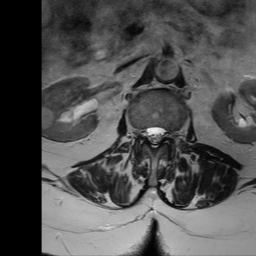CCS_normal: (150, 116, 158, 154)
LFS_normal: (166, 121, 173, 147)
LLS_normal: (158, 118, 166, 147)
RFS_normal: (135, 118, 143, 143)
RLS_normal: (143, 118, 150, 146)
